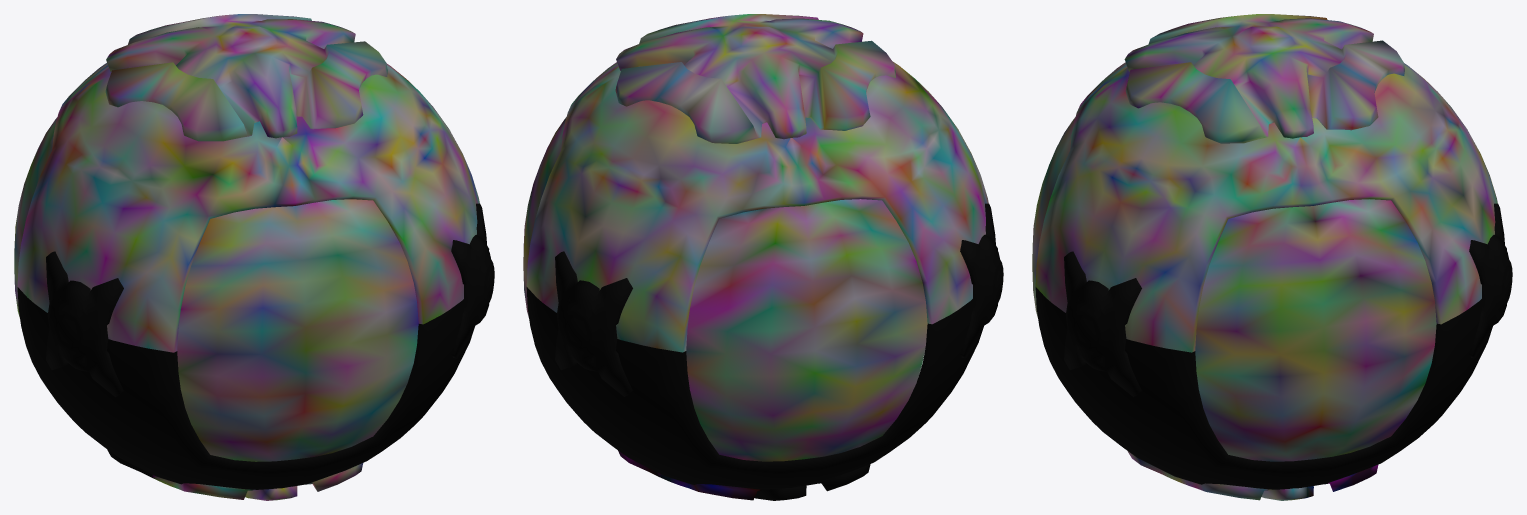
File: GodBall_RL_SM.glb
3 views of the same model, side by side, from view 1: azimuth 30°, elevation 25°; view 2: azimuth 150°, elevation 25°; view 3: azimuth 270°, elevation 25° (orthographic).
Parts seen in each view (by area): view 1: GodBall_RL_SM; view 2: GodBall_RL_SM; view 3: GodBall_RL_SM.
Boxes of the visible parts, x1,y1,x2,y2 form: GodBall_RL_SM: (14, 14, 494, 500); GodBall_RL_SM: (523, 14, 1003, 500); GodBall_RL_SM: (1032, 14, 1512, 500).
Size of the model in its own units: 1.85 by 1.89 by 1.85.
